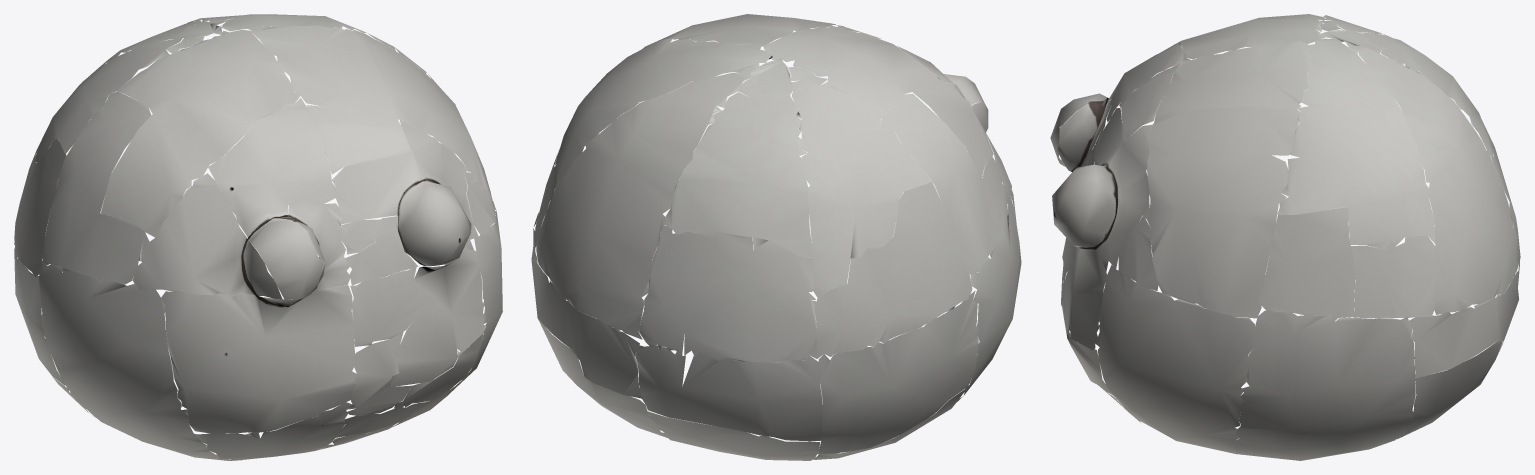
File: felsen.glb
The picture shows the model from 3 angles, left to right: view 1: azimuth 30°, elevation 25°; view 2: azimuth 150°, elevation 25°; view 3: azimuth 270°, elevation 25°; orthographic projection.
Parts seen in each view (by area): view 1: tripo_node_ec4207c5-8f9b-429c-bf5c-030581ae7f77; view 2: tripo_node_ec4207c5-8f9b-429c-bf5c-030581ae7f77; view 3: tripo_node_ec4207c5-8f9b-429c-bf5c-030581ae7f77.
Boxes of the visible parts, <box> form: tripo_node_ec4207c5-8f9b-429c-bf5c-030581ae7f77: <box>14,14,502,460</box>; tripo_node_ec4207c5-8f9b-429c-bf5c-030581ae7f77: <box>531,14,1021,460</box>; tripo_node_ec4207c5-8f9b-429c-bf5c-030581ae7f77: <box>1050,14,1520,460</box>.
Size of the model in its own units: 1 by 0.8724 by 0.9872.
1 material, 1 textured.
